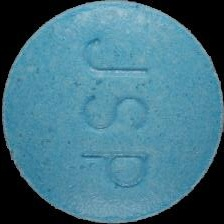63629-4251: (0, 0, 224, 224)
